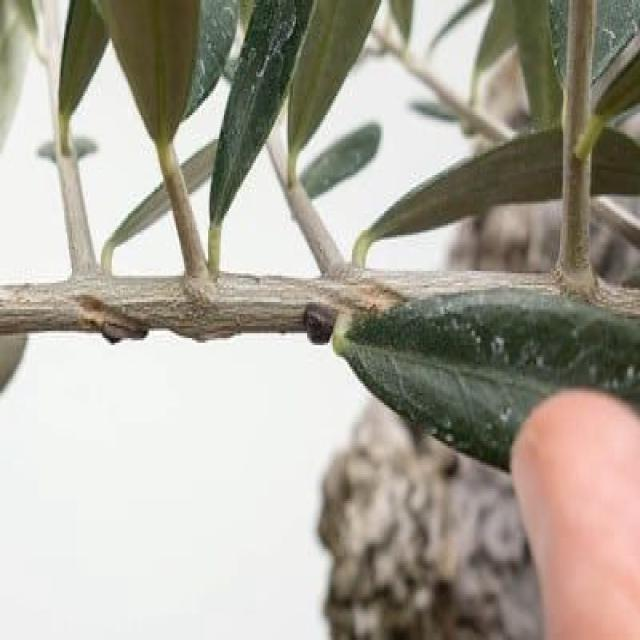Black Scale: (301, 302, 334, 343)
